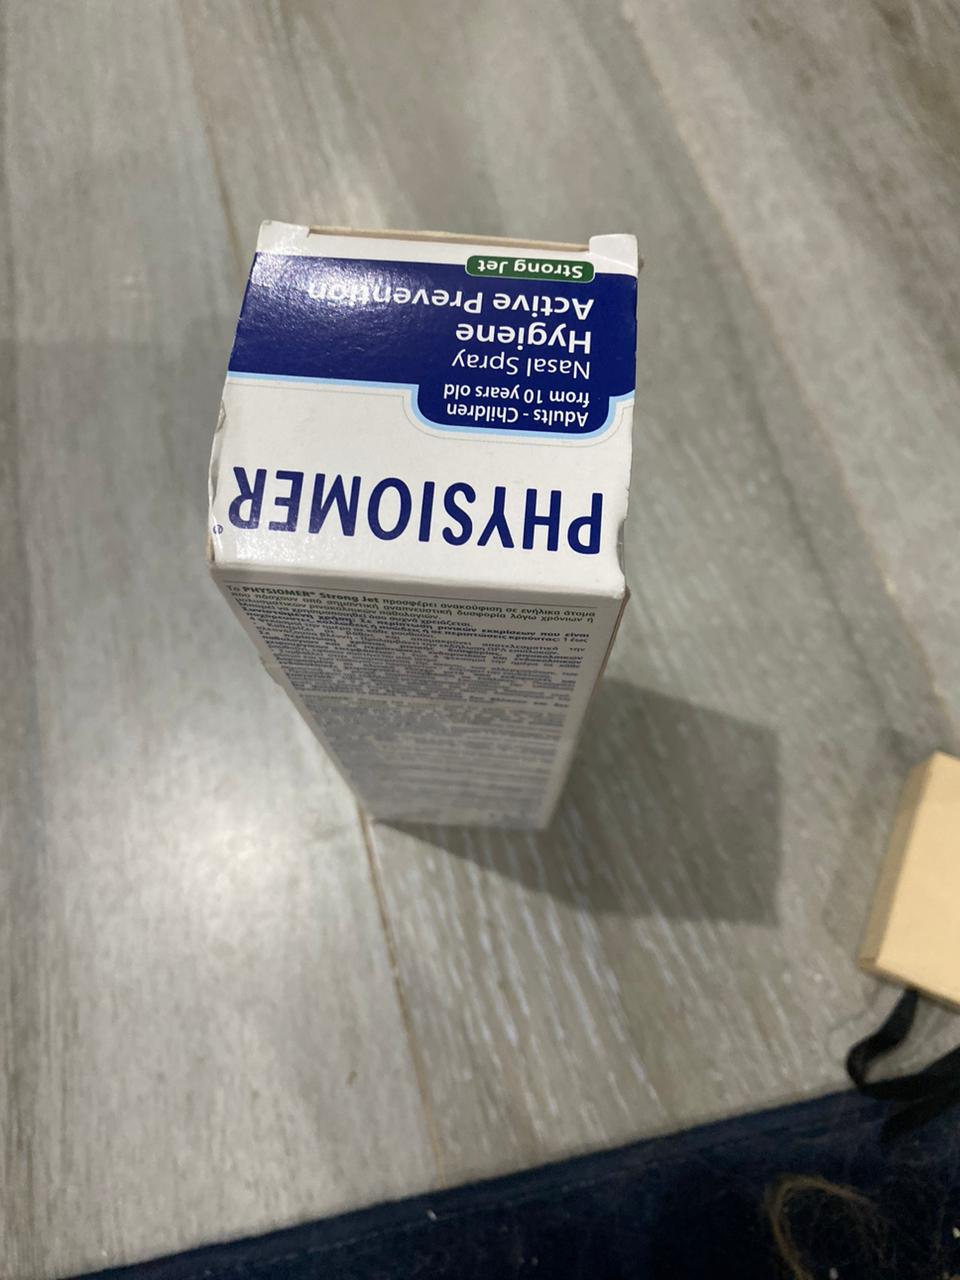Physiomer: (204, 216, 647, 845)
Yellow Box: (861, 748, 960, 1009)
